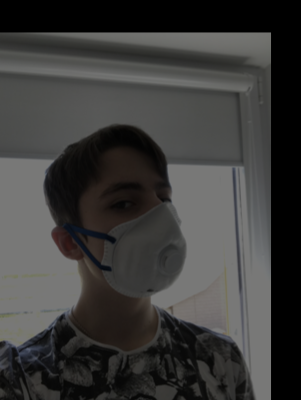with_mask: (93, 171, 187, 299)
